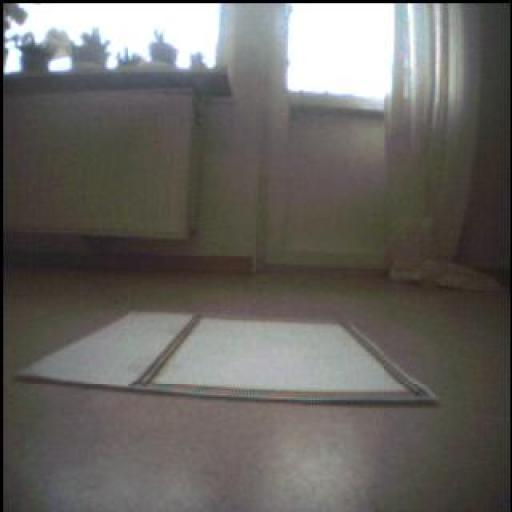Pad: (12, 320, 438, 401)
